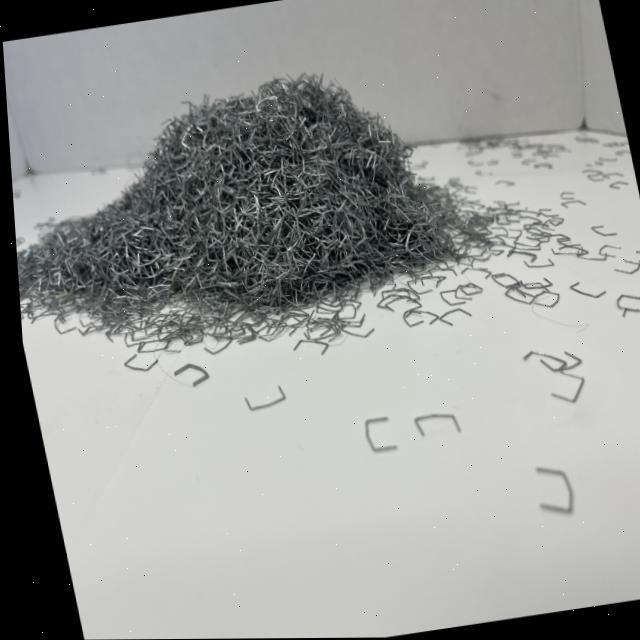staples: (4, 52, 472, 355)
